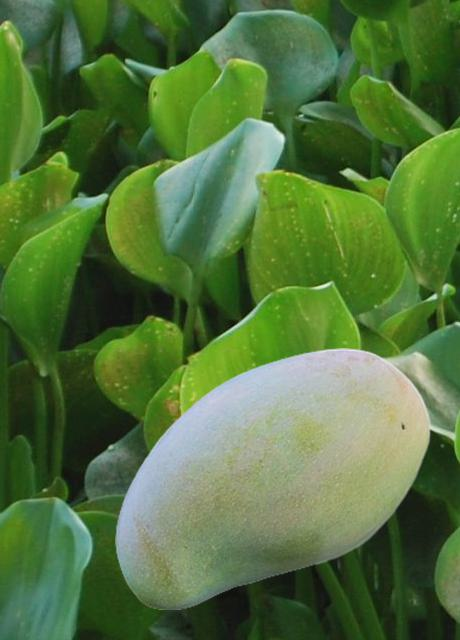green_mango: (115, 348, 430, 608)
